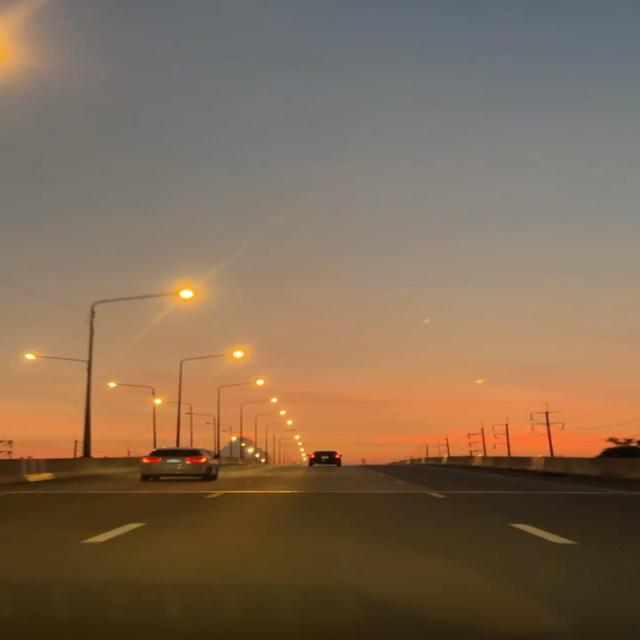Poth-hole: (167, 487, 539, 601)
